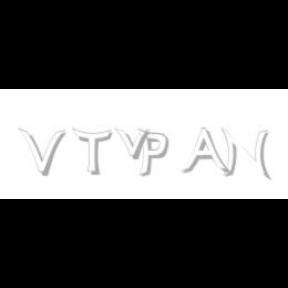A: (181, 128, 229, 176)
N: (220, 128, 270, 180)
P: (137, 128, 169, 178)
T: (72, 128, 112, 176)
V: (18, 128, 66, 176)
v: (114, 128, 154, 160)
